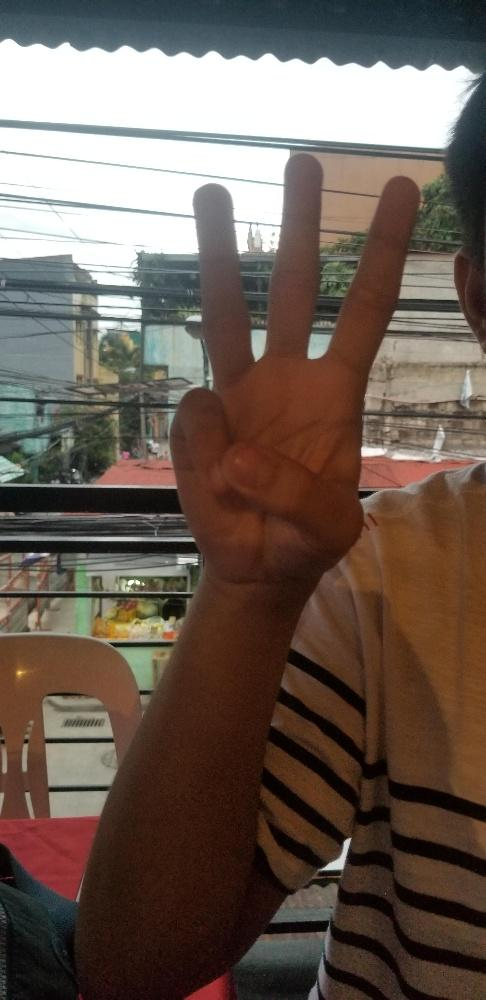w: (167, 151, 420, 574)
